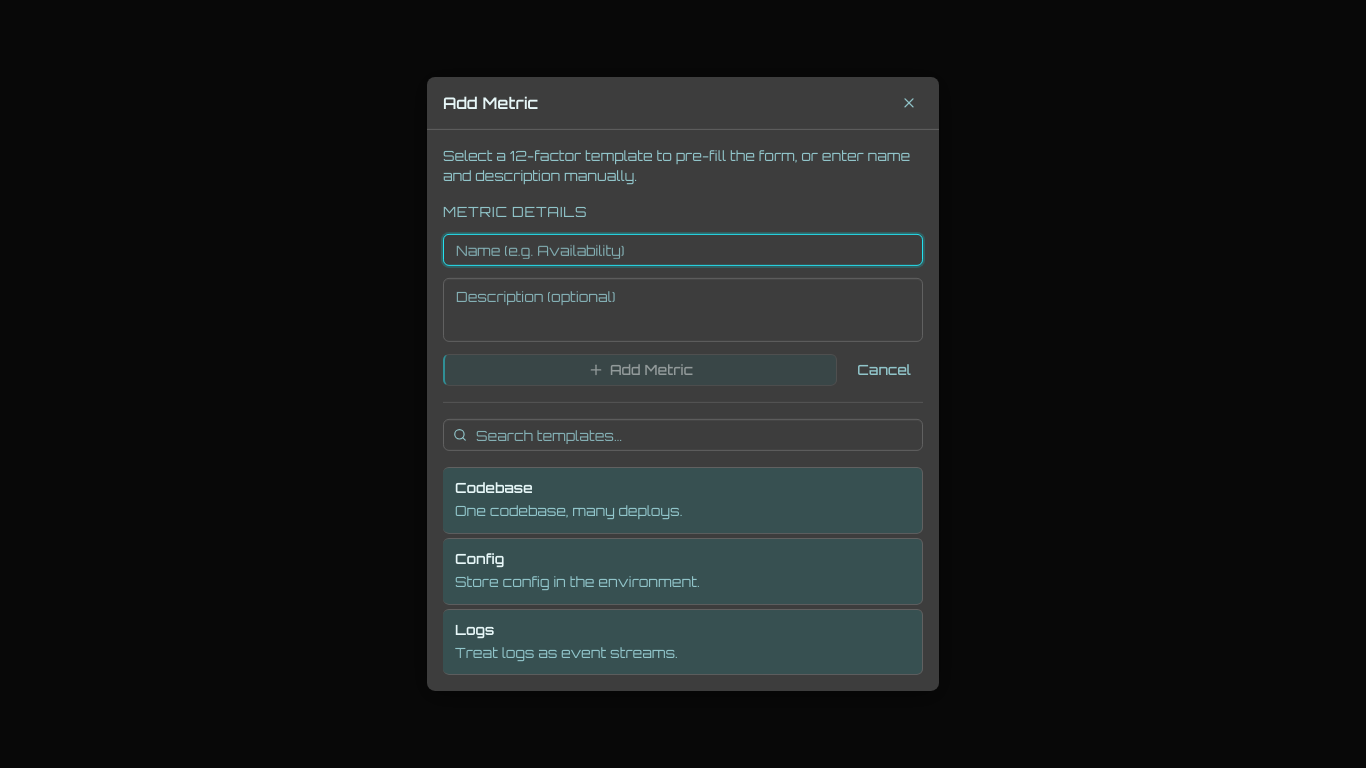
Test: MetricTemplateSelector › filters templates by description (case-insensitive)
Expected: the text "Codebase" is shown, top-left (455, 479), bottom-right (533, 496)
Type "event streams" into the field with placeholder "Search templates…" at (683, 435), box top-left (443, 419), bottom-right (923, 451)
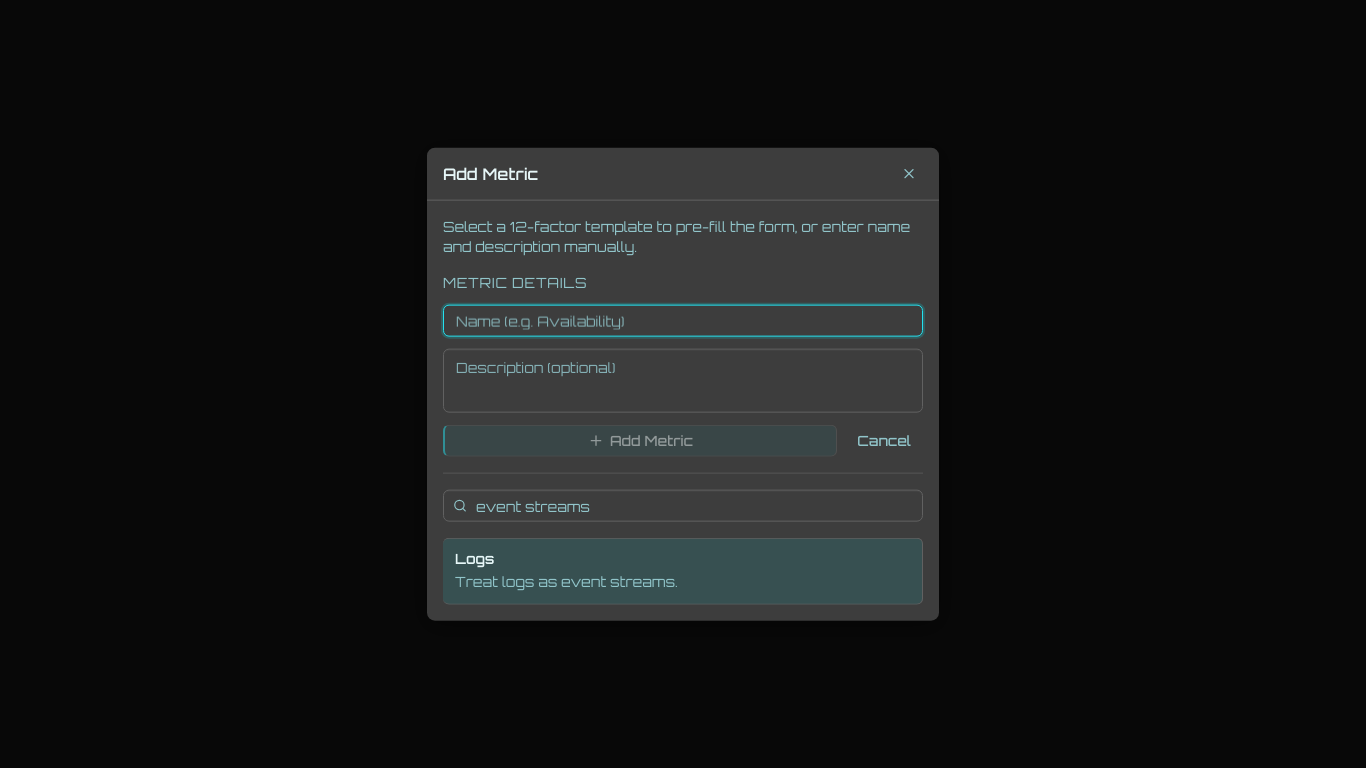
Expected: the text "Logs" is shown, top-left (455, 550), bottom-right (494, 567)
Expected: the button "Codebase" is gone
